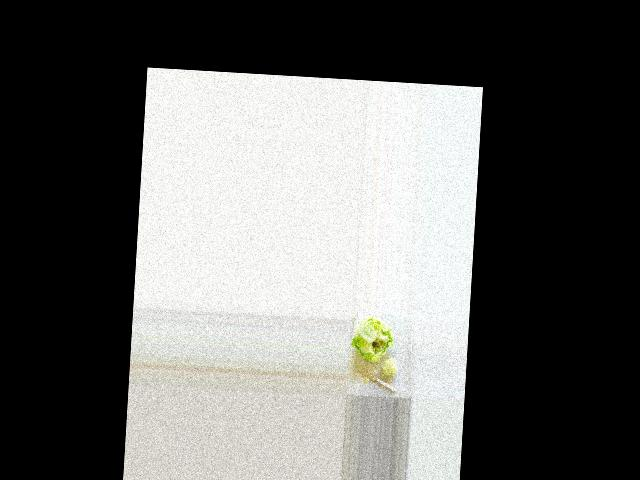lettuce: (352, 313, 394, 359)
